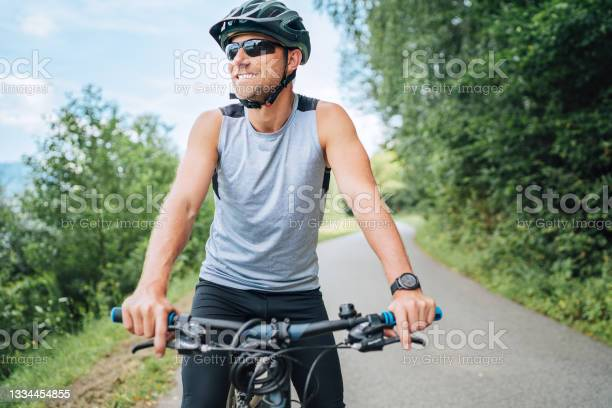helmet: (209, 1, 311, 109)
